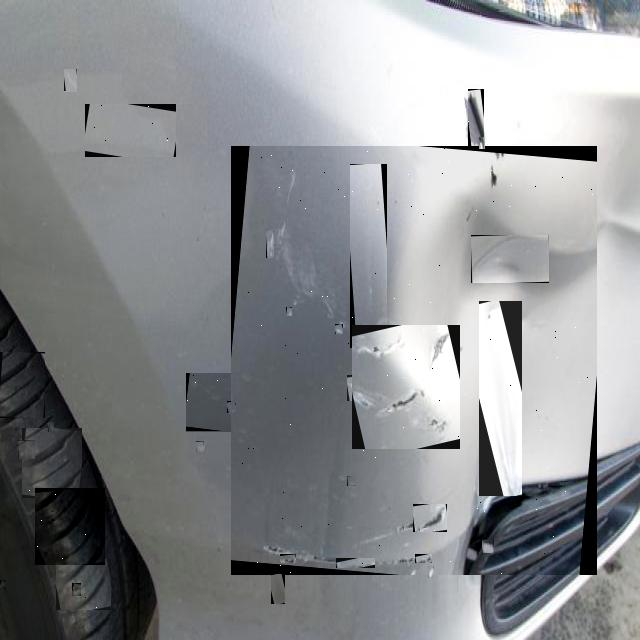Dent: (231, 146, 597, 575), (352, 325, 460, 449), (265, 188, 332, 324), (479, 301, 522, 496), (350, 164, 387, 348), (35, 488, 105, 565), (85, 104, 176, 157), (186, 374, 259, 434), (22, 428, 82, 498), (471, 235, 549, 283), (0, 352, 45, 418), (56, 559, 111, 610), (284, 533, 336, 563), (363, 320, 412, 350), (374, 524, 417, 548), (370, 390, 419, 410), (413, 504, 447, 532), (432, 342, 460, 376), (468, 89, 484, 146), (507, 301, 545, 322), (407, 416, 440, 440), (347, 375, 374, 401), (311, 298, 330, 325), (271, 574, 285, 604), (336, 558, 375, 568), (18, 440, 35, 459), (64, 70, 77, 94), (271, 180, 279, 216), (266, 230, 274, 258), (472, 158, 480, 181), (482, 539, 494, 553), (415, 554, 432, 563), (280, 554, 296, 563), (72, 583, 81, 596), (242, 386, 253, 396), (227, 404, 236, 416), (452, 202, 459, 217), (347, 476, 356, 486), (196, 441, 204, 452), (504, 309, 512, 319), (335, 324, 343, 334), (428, 566, 434, 578), (479, 137, 485, 149), (0, 580, 6, 590), (48, 422, 54, 432), (286, 307, 292, 316), (380, 339, 388, 345), (417, 390, 422, 399)
